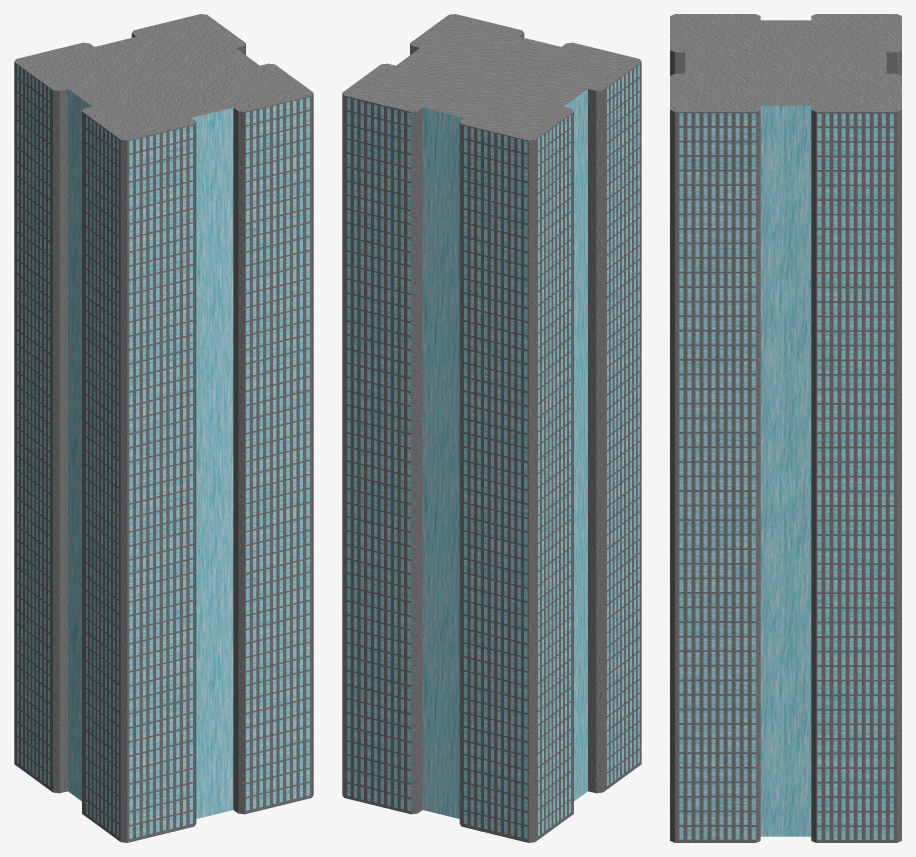
The model's file is FirstWorld_Buildings_SkyScraper.FBX.
3 renders of one model, left to right at view 1: azimuth 30°, elevation 25°; view 2: azimuth 150°, elevation 25°; view 3: azimuth 270°, elevation 25°, orthographic. The views are drawn at different scales.
Parts seen in each view (by area): view 1: Box003; view 2: Box003; view 3: Box003.
Boxes of the visible parts, x1,y1,x2,y2 form: Box003: (14, 14, 313, 842); Box003: (342, 14, 641, 842); Box003: (670, 14, 901, 842).
Bounding box in the file's own units: 46 × 160 × 46.
Materials: 1 (1 with a texture image).
